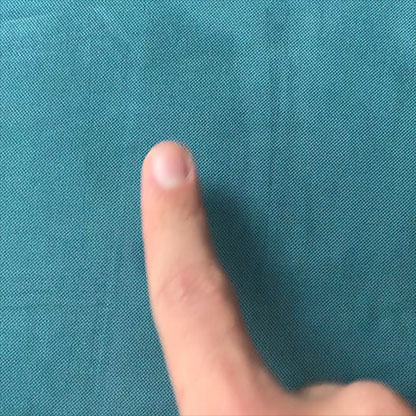fingertip: (130, 133, 207, 203)
